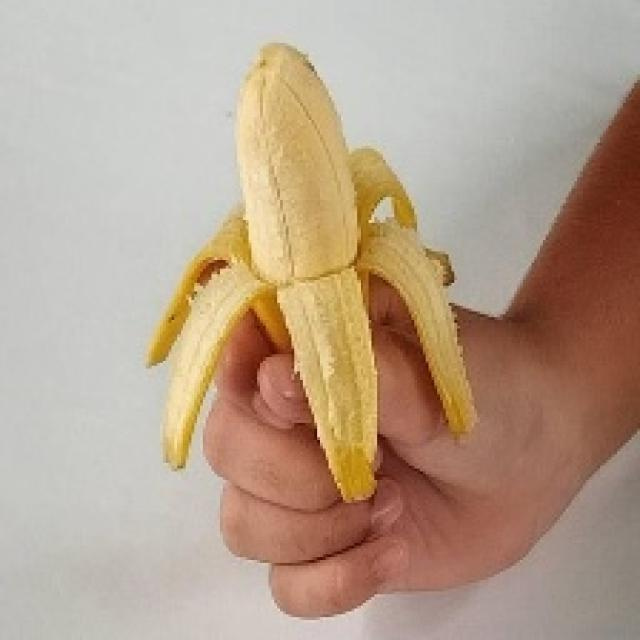Banana: (143, 40, 477, 503)
